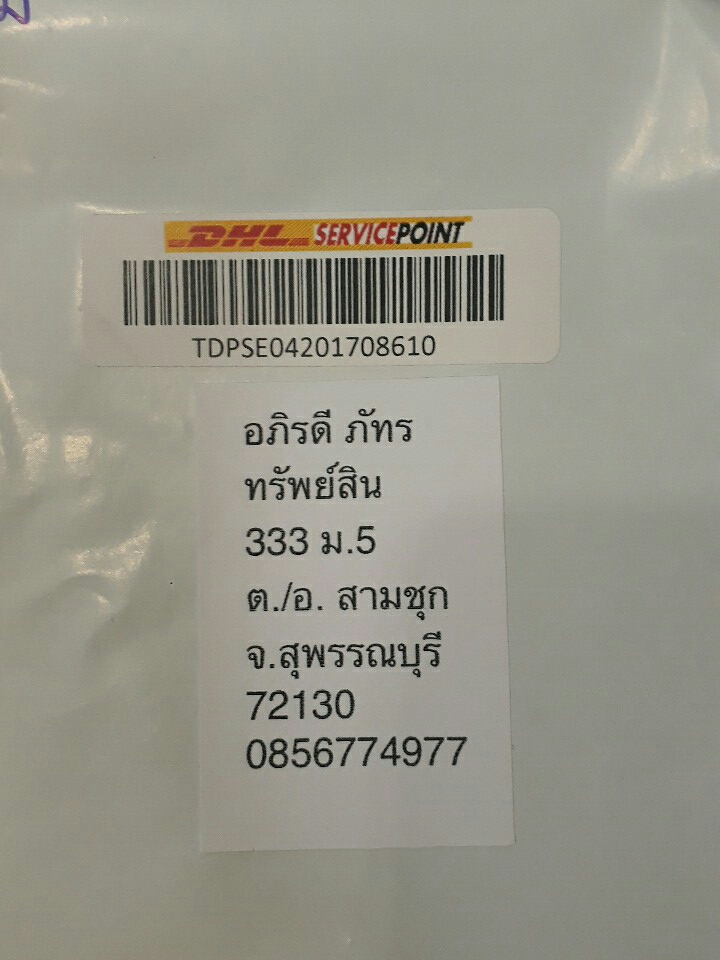ba: (77, 203, 576, 379)
txt: (238, 401, 476, 775)
